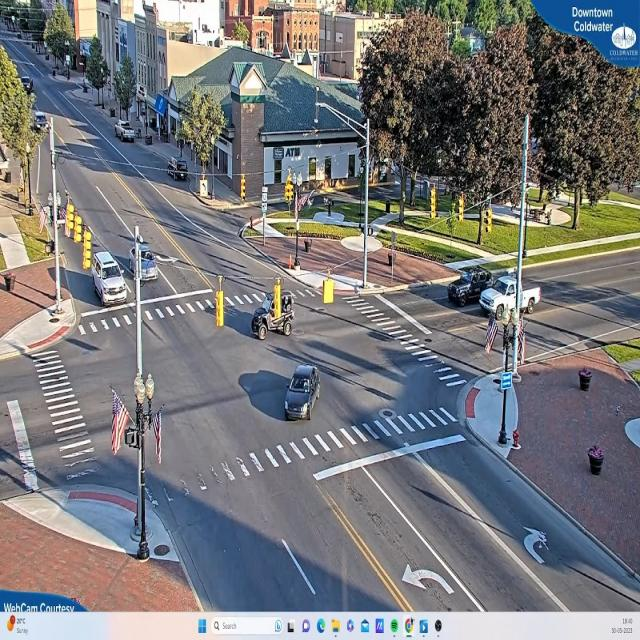car: (481, 276, 544, 319), (283, 366, 321, 425), (250, 288, 293, 340), (92, 254, 129, 308), (448, 272, 483, 302), (35, 114, 48, 132)
